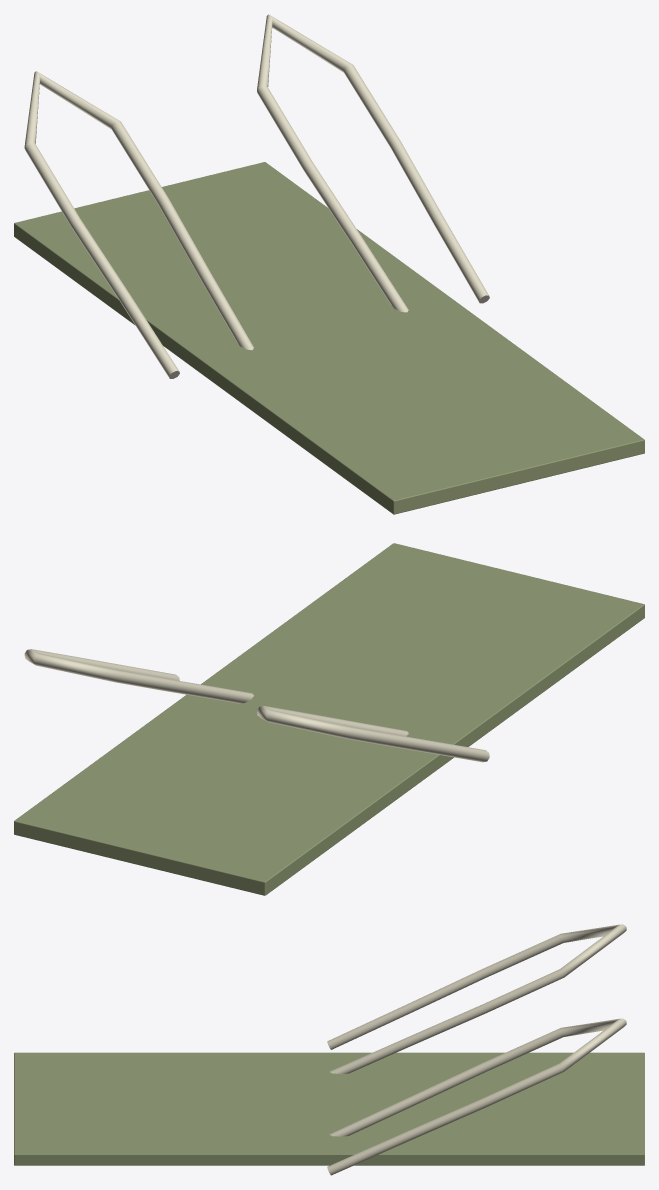
File: field-medicine-and-recovery-litter-sling-56da4c45__3049.glb
3 views of the same model, one above another, from view 1: azimuth 30°, elevation 25°; view 2: azimuth 150°, elevation 25°; view 3: azimuth 270°, elevation 25° (orthographic). The views are drawn at different scales.
Parts seen in each view (by area): view 1: litter-sling; view 2: litter-sling; view 3: litter-sling.
Part boxes in pixels (left/top/right/bottom): litter-sling: left=14, top=14, right=644, bottom=514; litter-sling: left=14, top=543, right=644, bottom=895; litter-sling: left=14, top=924, right=644, bottom=1175.
Bounding box in the file's own units: 0.8544 × 0.4271 × 1.7.
